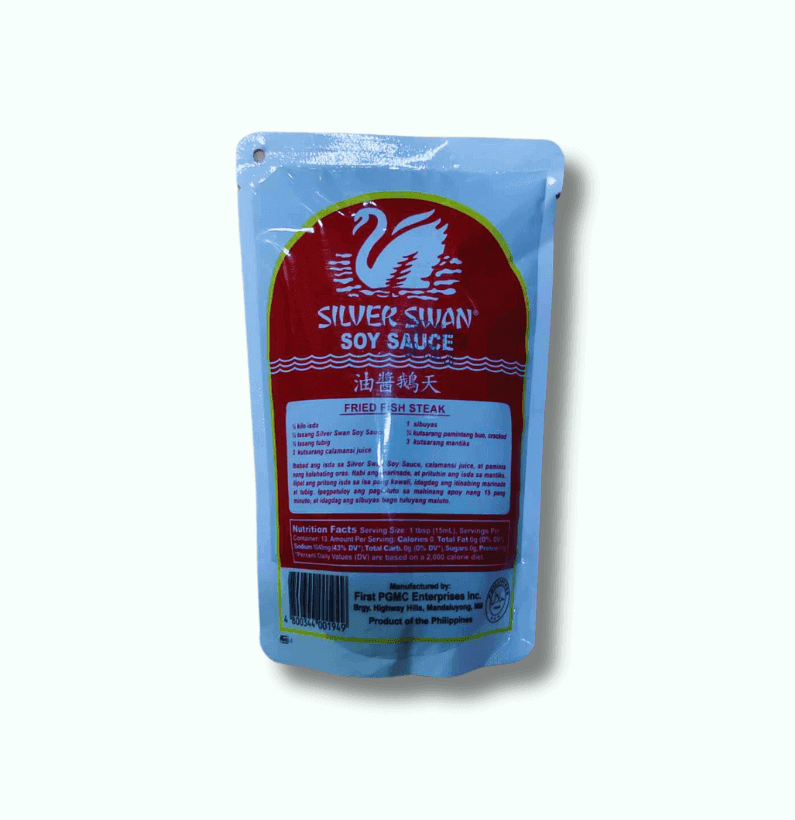non-toxic_waste: (225, 130, 558, 676)
